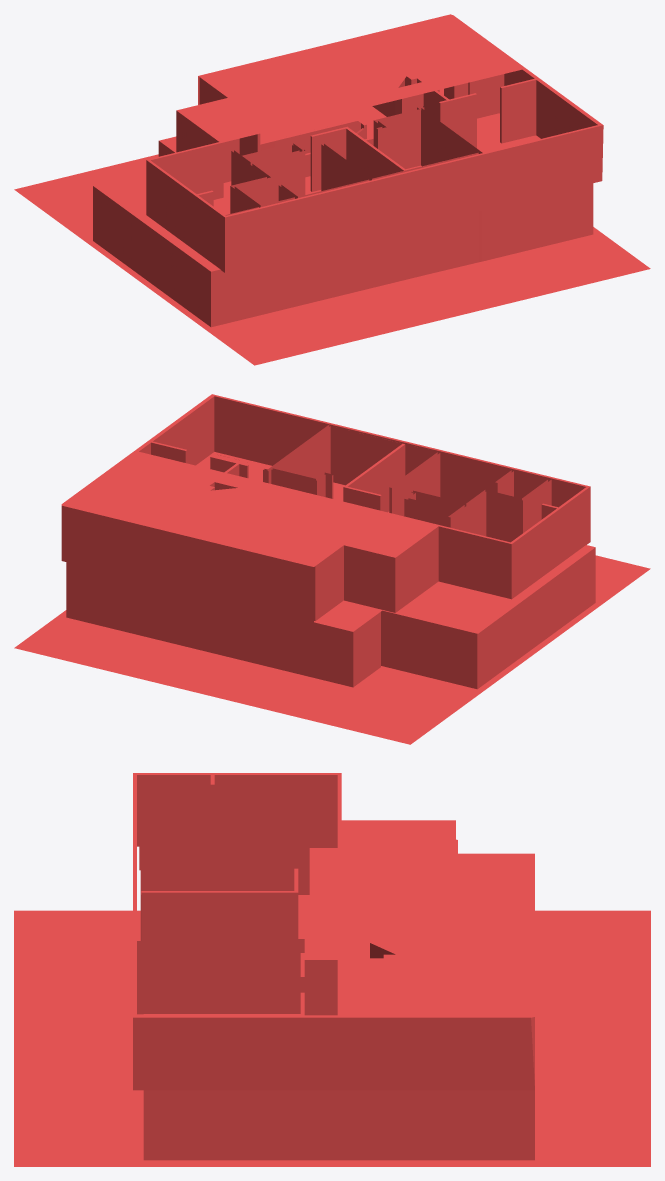
The model's file is InteriorPaintingPlanning2.fbx.
3 views of the same model, one above another, from view 1: azimuth 30°, elevation 25°; view 2: azimuth 150°, elevation 25°; view 3: azimuth 270°, elevation 25° (orthographic). The views are drawn at different scales.
Visible parts, largest first — view 1: ID16, ID40, ID34, ID82, ID88, ID76; view 2: ID16, ID40, ID34, ID82; view 3: ID16, ID40, ID34.
Part boxes in pixels (x1,y1,x2,y2): ID16: (93,14,603,327); ID40: (14,154,650,365); ID34: (93,168,409,271); ID82: (159,122,315,152); ID88: (309,106,381,128); ID76: (477,128,535,152); ID16: (61,394,595,689); ID40: (14,555,650,744); ID34: (333,483,595,633); ID82: (314,601,380,631); ID16: (133,773,534,1160); ID40: (14,910,650,1166); ID34: (298,840,457,958).
Bounding box in the file's own units: 896 × 941 × 241.
